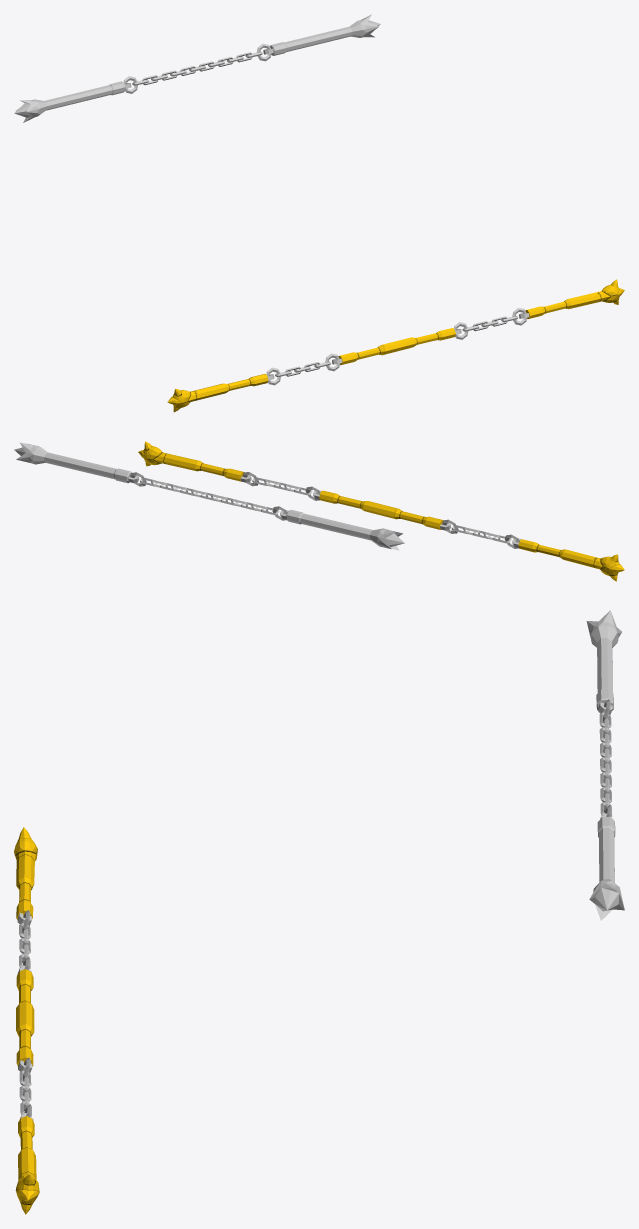
Rendered from tripleBarras.fbx.
3 views of the same model, one above another, from view 1: azimuth 30°, elevation 25°; view 2: azimuth 150°, elevation 25°; view 3: azimuth 270°, elevation 25° (orthographic). The views are drawn at different scales.
Visible parts, largest first — view 1: default, default001, BarraIzq003, BarraIzq, cadena1; view 2: default, default001, BarraIzq003, BarraIzq, cadena1; view 3: default, default001, BarraIzq, BarraIzq003.
Part boxes in pixels (box(x1,y1,x2,y2)): default: box(14, 14, 380, 122); default001: box(266, 328, 455, 385); BarraIzq003: box(167, 374, 268, 412); BarraIzq: box(525, 279, 624, 318); cadena1: box(454, 307, 529, 339); default: box(14, 442, 404, 550); default001: box(319, 490, 520, 548); BarraIzq003: box(518, 539, 624, 581); BarraIzq: box(138, 441, 244, 481); cadena1: box(240, 472, 321, 500); default: box(586, 610, 624, 920); default001: box(16, 910, 34, 1066); BarraIzq: box(15, 1116, 39, 1214); BarraIzq003: box(14, 827, 37, 919).
Bounding box in the file's own units: 62.79 × 22.68 × 45.16.
Materials: 2 (1 with a texture image).
